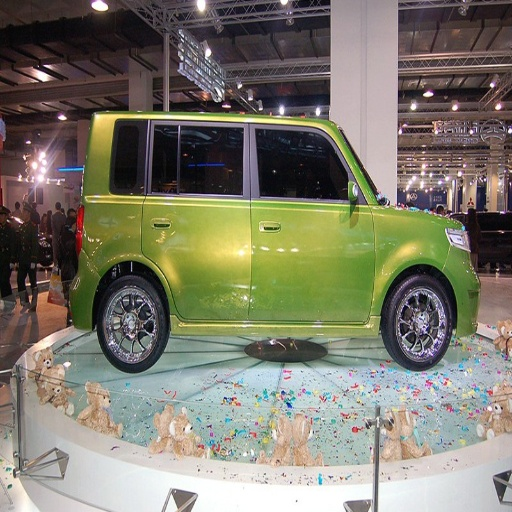back_right_door: (142, 120, 250, 320)
front_right_door: (251, 123, 374, 319)
